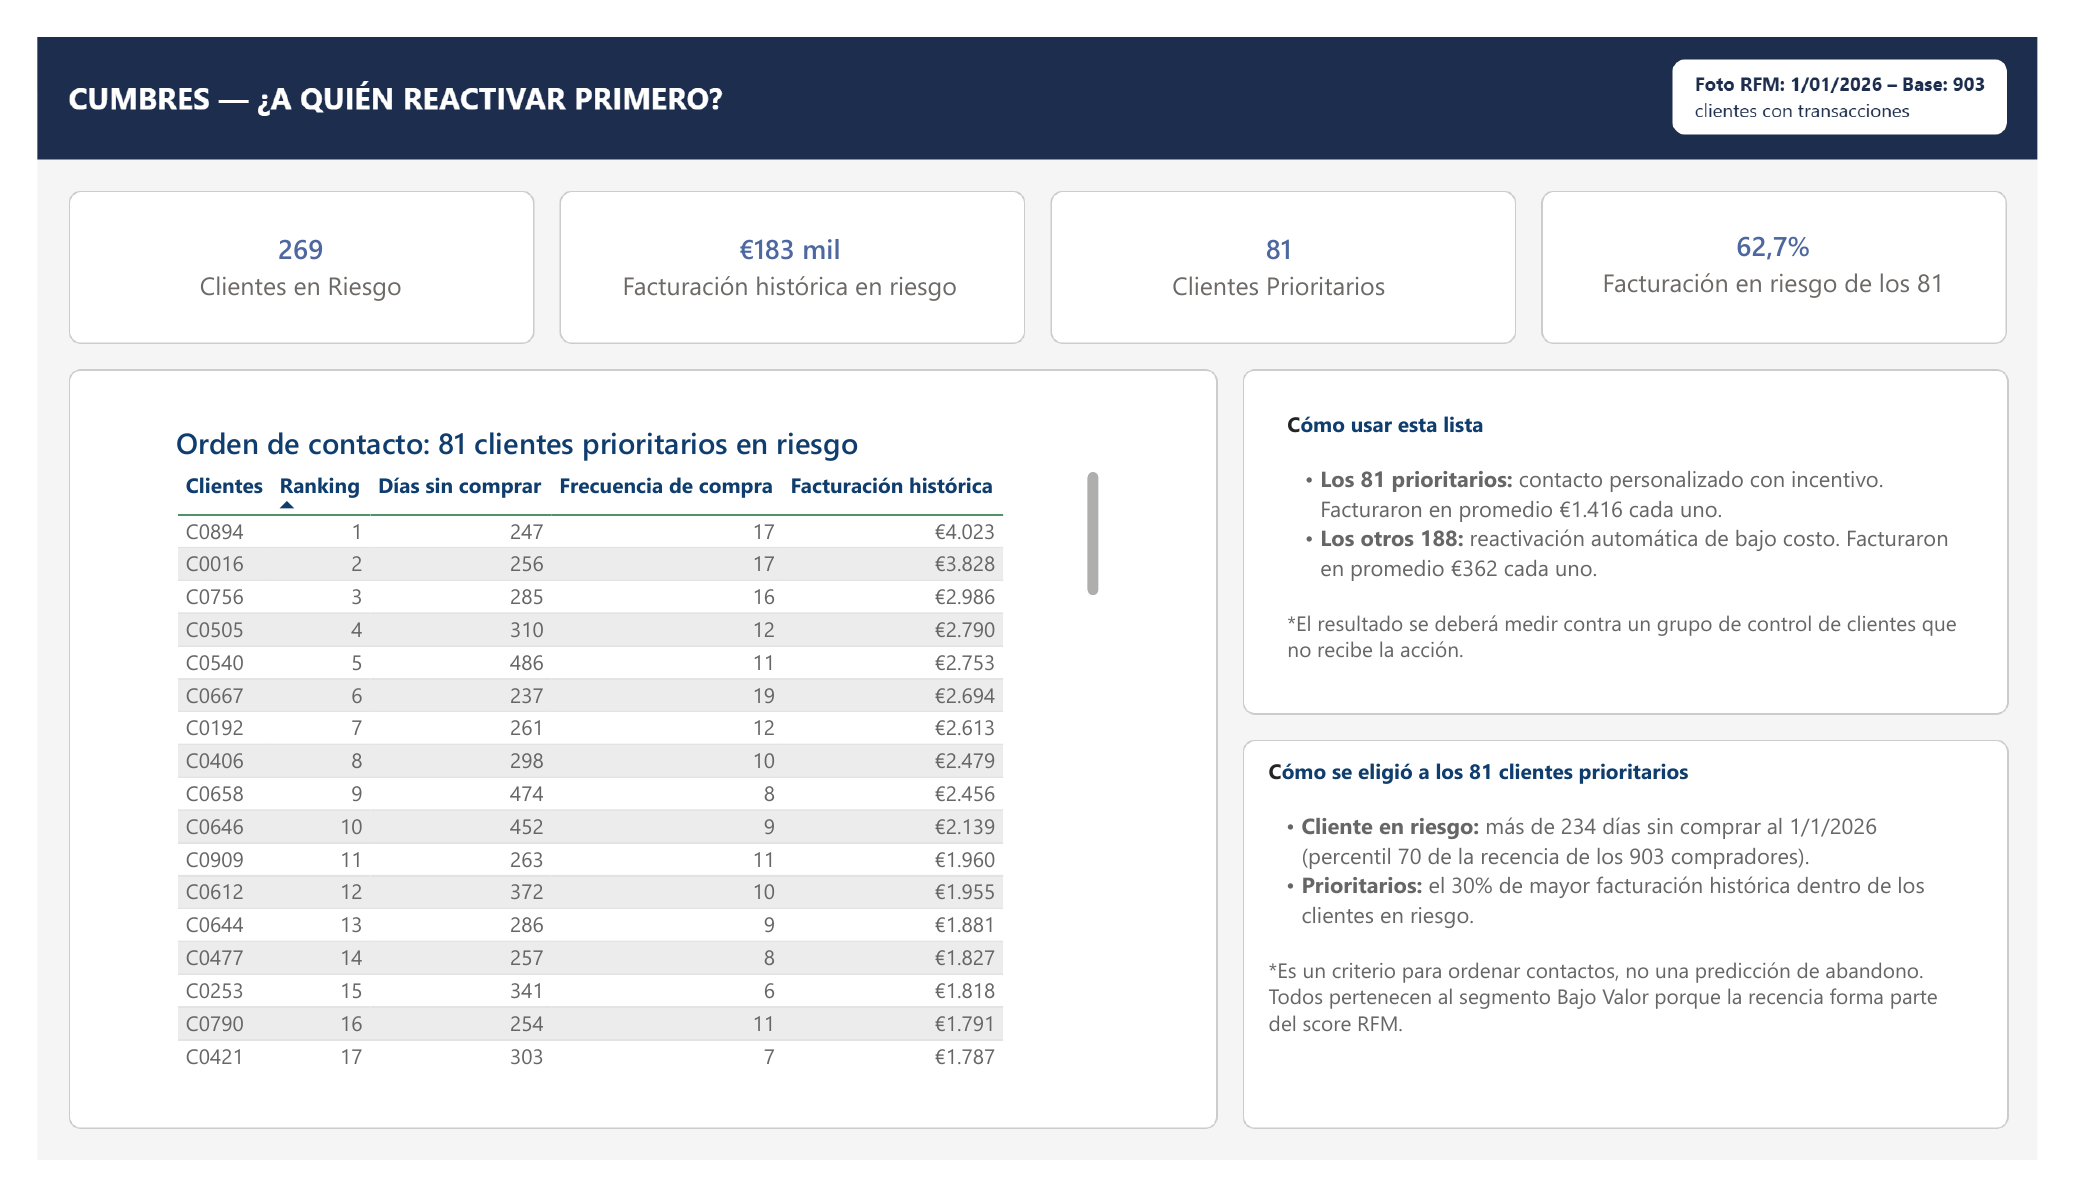

The page's visual inventory and layout, read from the dashboard file:
{"tool":"powerbi","page":{"name":"3. ¿ A quién reactivar primero? ","canvas":[1280,720],"ordinal":3},"visuals":[{"type":"cardVisual","fields":{"Data":["Medidas.Clientes en Riesgo (Foto)"]},"box":[26.7,103.2,283,87.2],"z":0},{"type":"cardVisual","fields":{"Data":["Medidas.Revenue Histórico en Riesgo"]},"box":[339.9,103.2,283,87.2],"z":1000},{"type":"cardVisual","fields":{"Data":["Medidas.Clientes Prioritarios"]},"box":[653.2,103.2,283,87.2],"z":2000},{"type":"cardVisual","fields":{"Data":["Medidas.% Valor en Riesgo en Prioritarios"]},"box":[973.5,97.9,274.1,92.5],"z":3000},{"type":"tableEx","title":"Orden de contacto: 81 clientes prioritarios en riesgo","fields":{"Values":["clientes.customer_id","Medidas.Ranking Valor en Riesgo","Sum(clientes_rfm.recencia)","Sum(clientes_rfm.frecuencia)","Sum(clientes_rfm.monetario)"]},"box":[83.7,246.7,601.6,418.4],"z":4000},{"type":"textbox","box":[795,233.7,442.9,187.6],"z":5000},{"type":"textbox","box":[783.4,455.9,454.5,209.2],"z":6000}]}

Visuals, with their boxes on the page's 1280x720 design canvas (x1, y1, x2, y2). These are canvas units, not pixel positions in the 2075x1200 screenshot, which may show the page scaled, cropped or inside an application window:
cardVisual - Medidas.Clientes en Riesgo (Foto): Rect(27, 103, 310, 190)
cardVisual - Medidas.Revenue Histórico en Riesgo: Rect(340, 103, 623, 190)
cardVisual - Medidas.Clientes Prioritarios: Rect(653, 103, 936, 190)
cardVisual - Medidas.% Valor en Riesgo en Prioritarios: Rect(974, 98, 1248, 190)
"Orden de contacto: 81 clientes prioritarios en riesgo" tableEx: Rect(84, 247, 685, 665)
textbox: Rect(795, 234, 1238, 421)
textbox: Rect(783, 456, 1238, 665)
